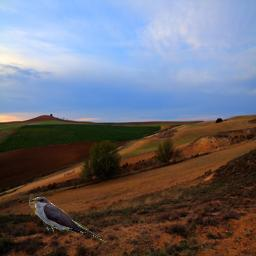Cuckoo: (29, 197, 106, 243)
